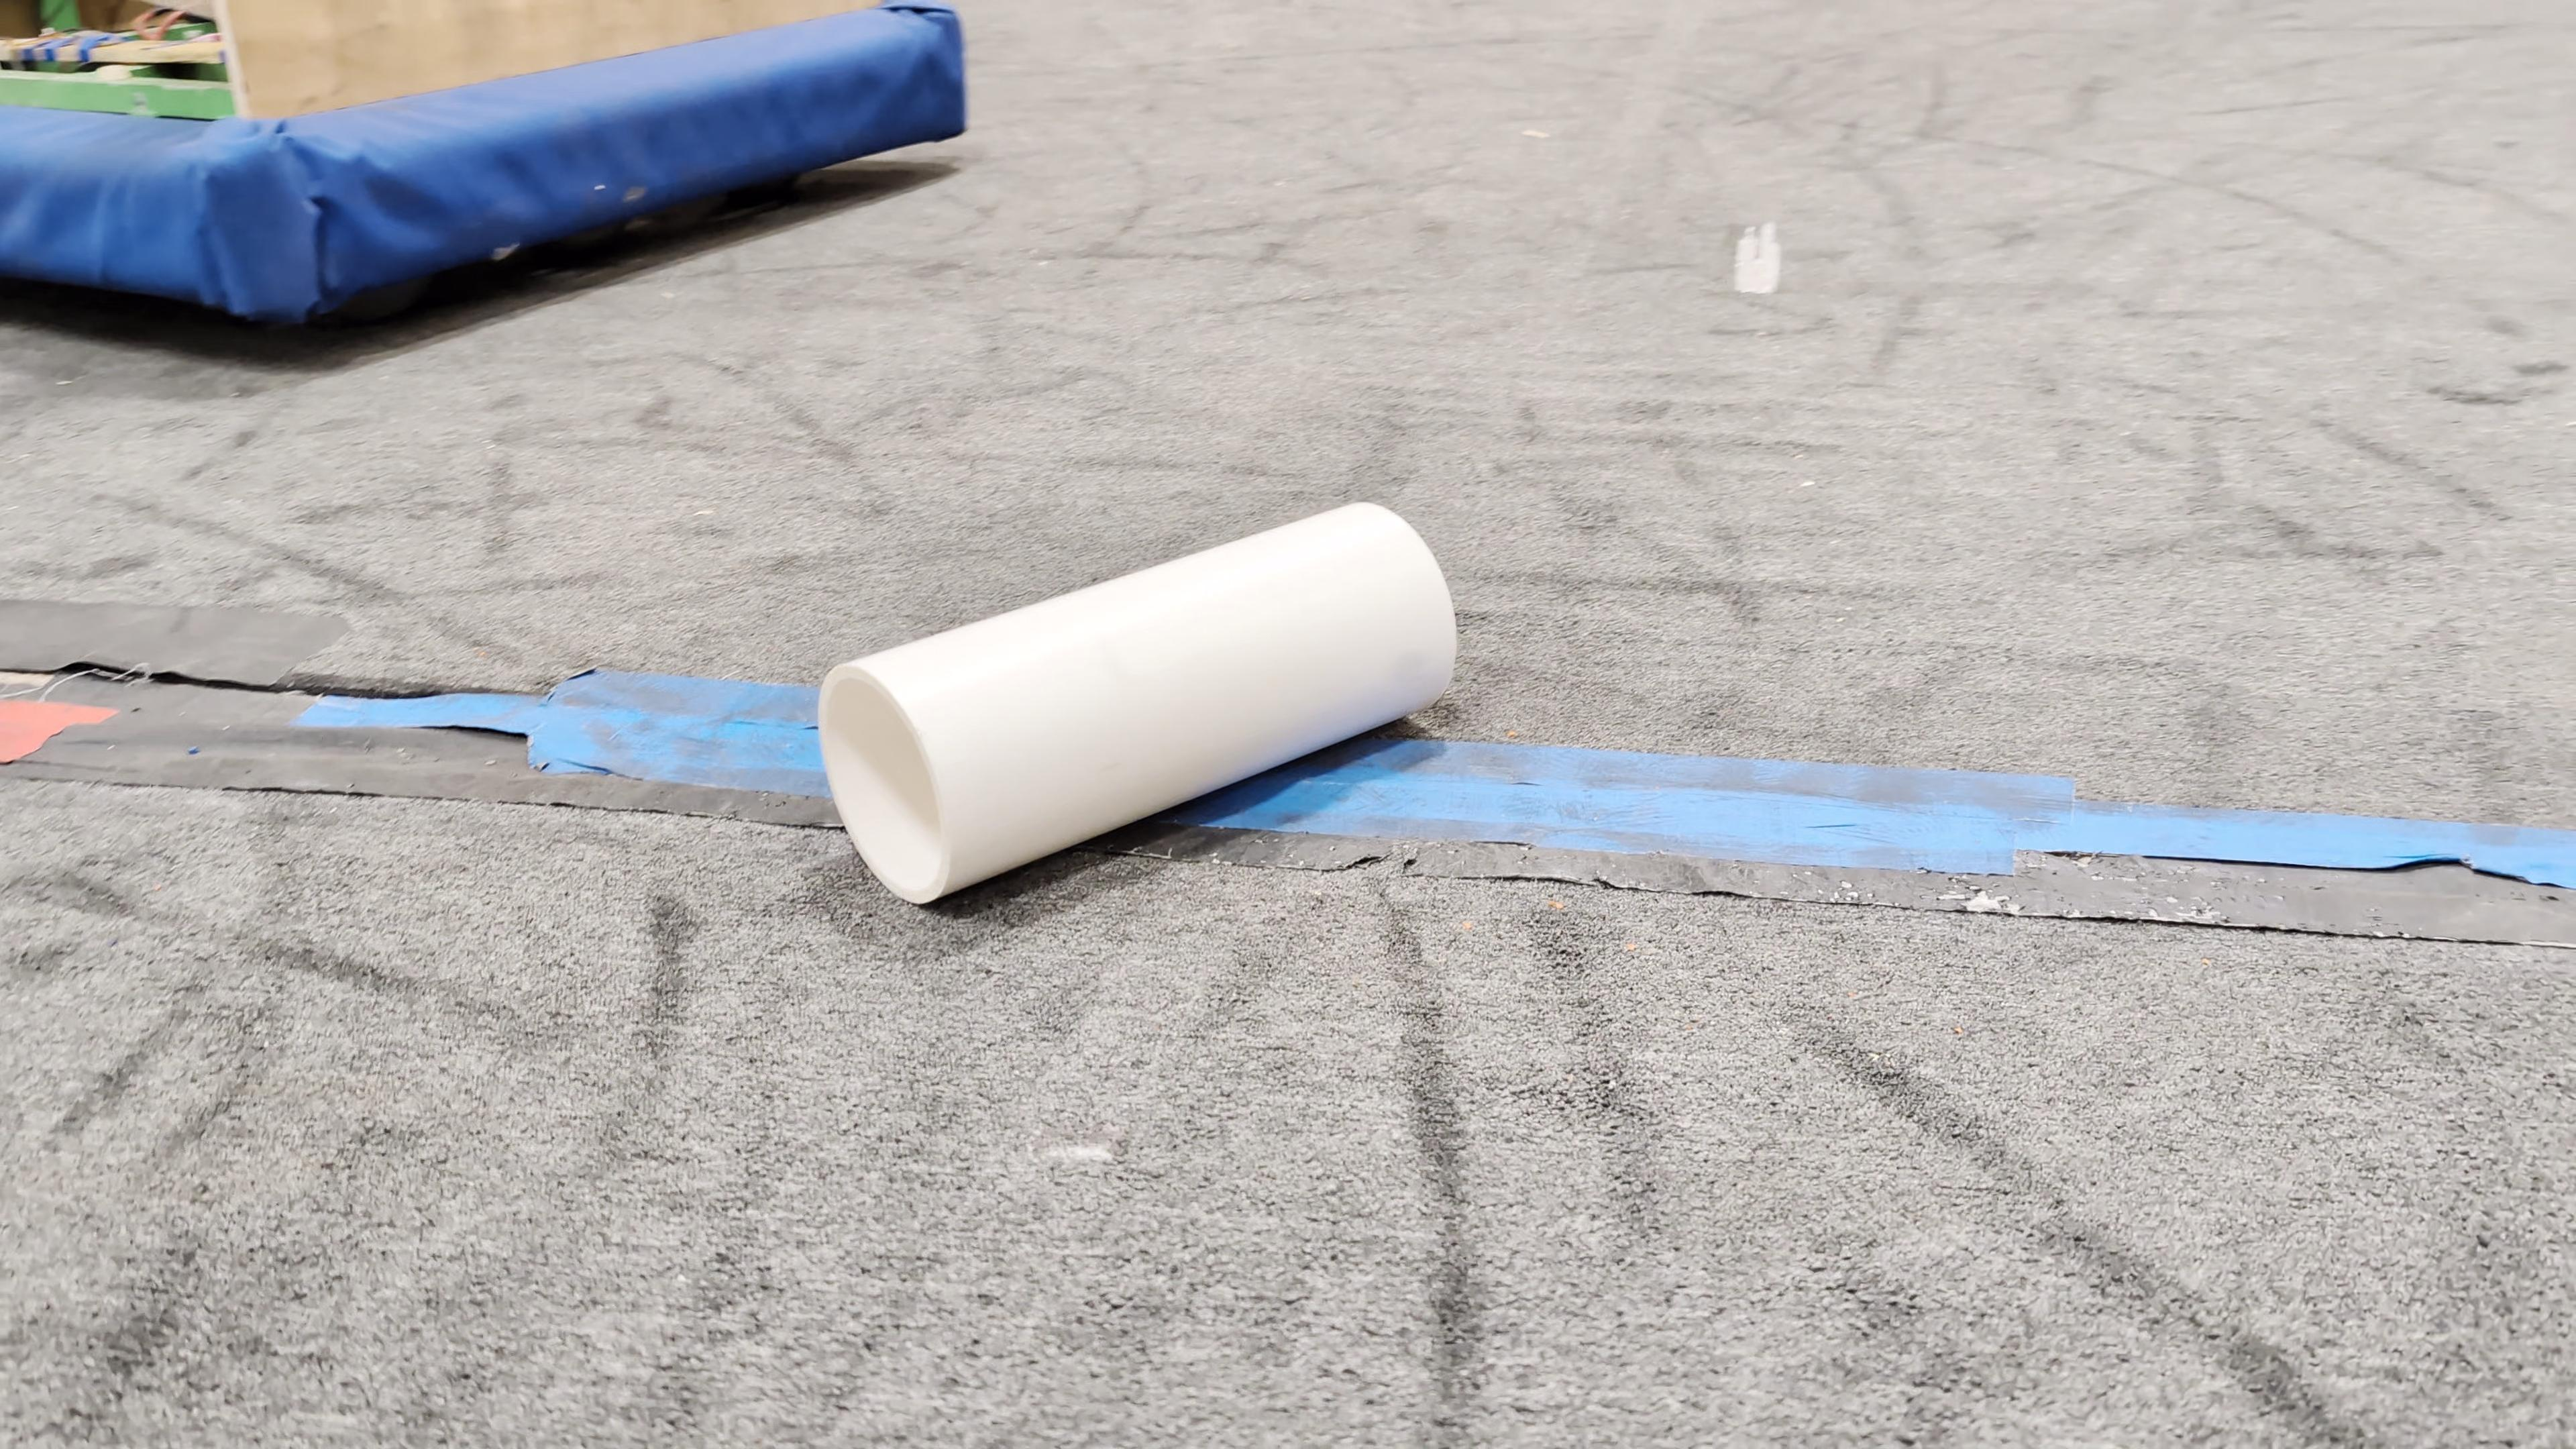coral: (814, 495, 1458, 908)
